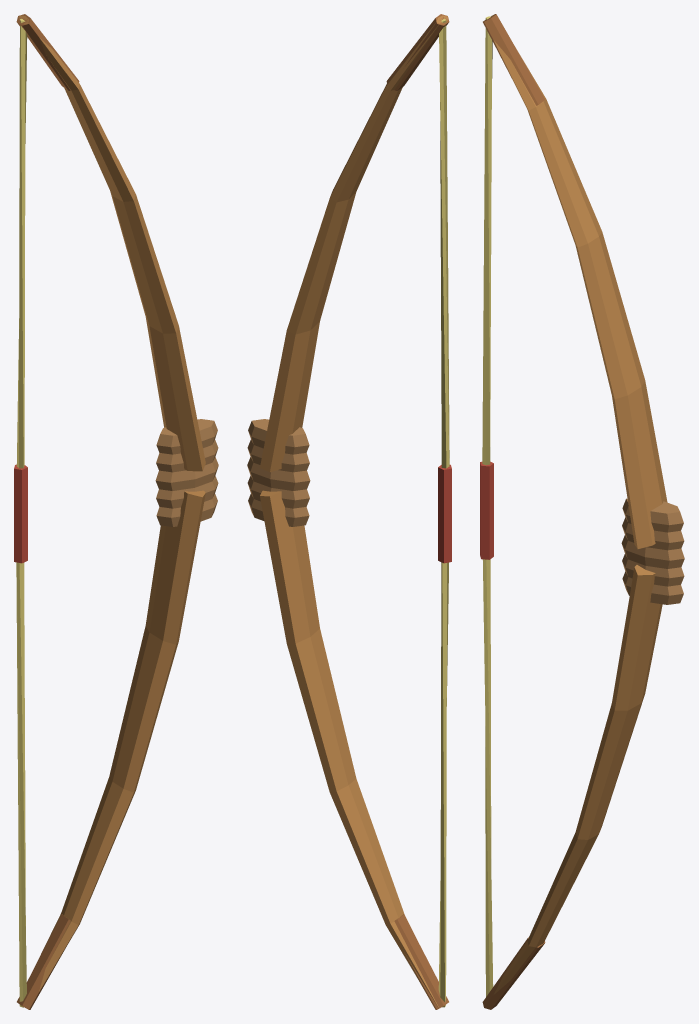
File: longbow_world.glb
The picture shows the model from 3 angles, left to right: view 1: azimuth 30°, elevation 25°; view 2: azimuth 150°, elevation 25°; view 3: azimuth 330°, elevation 25°; orthographic projection.
Visible parts, largest first — view 1: Longbow_Limb_Lower, Longbow_Limb_Upper, Longbow_String, Longbow_String_Serving, Longbow_Nock_Lower, Longbow_Grip_Wrap_3, Longbow_Grip_Wrap_5, Longbow_Nock_Upper, Longbow_Grip_Wrap_2, Longbow_Grip_Wrap_4, Longbow_Grip_Wrap_1; view 2: Longbow_Limb_Lower, Longbow_Limb_Upper, Longbow_String, Longbow_String_Serving, Longbow_Nock_Lower, Longbow_Grip_Wrap_3, Longbow_Nock_Upper, Longbow_Grip_Wrap_5, Longbow_Grip_Wrap_2, Longbow_Grip_Wrap_4, Longbow_Grip_Wrap_1; view 3: Longbow_Limb_Upper, Longbow_Limb_Lower, Longbow_String, Longbow_Nock_Upper, Longbow_String_Serving, Longbow_Grip_Wrap_3, Longbow_Grip_Wrap_5, Longbow_Grip_Wrap_2, Longbow_Nock_Lower, Longbow_Grip_Wrap_1, Longbow_Grip_Wrap_4.
Part boxes in pixels (<box>): Longbow_Limb_Lower: <box>39,490,205,991</box>; Longbow_Limb_Upper: <box>18,15,205,471</box>; Longbow_String: <box>16,19,27,1007</box>; Longbow_String_Serving: <box>14,464,27,563</box>; Longbow_Nock_Lower: <box>17,914,70,1009</box>; Longbow_Grip_Wrap_3: <box>155,457,218,490</box>; Longbow_Grip_Wrap_5: <box>156,419,217,454</box>; Longbow_Nock_Upper: <box>16,14,79,90</box>; Longbow_Grip_Wrap_2: <box>156,476,218,508</box>; Longbow_Grip_Wrap_4: <box>156,440,218,472</box>; Longbow_Grip_Wrap_1: <box>156,494,217,526</box>; Longbow_Limb_Lower: <box>260,490,439,1009</box>; Longbow_Limb_Upper: <box>260,15,447,472</box>; Longbow_String: <box>438,18,449,1007</box>; Longbow_String_Serving: <box>438,464,451,563</box>; Longbow_Nock_Lower: <box>394,914,448,1009</box>; Longbow_Grip_Wrap_3: <box>247,457,310,490</box>; Longbow_Nock_Upper: <box>386,14,449,90</box>; Longbow_Grip_Wrap_5: <box>248,419,309,454</box>; Longbow_Grip_Wrap_2: <box>247,476,309,508</box>; Longbow_Grip_Wrap_4: <box>247,440,309,472</box>; Longbow_Grip_Wrap_1: <box>248,494,309,526</box>; Longbow_Limb_Upper: <box>484,14,667,548</box>; Longbow_Limb_Lower: <box>493,565,662,994</box>; Longbow_String: <box>482,16,493,996</box>; Longbow_Nock_Upper: <box>483,14,545,105</box>; Longbow_String_Serving: <box>480,461,493,559</box>; Longbow_Grip_Wrap_3: <box>621,535,684,568</box>; Longbow_Grip_Wrap_5: <box>622,498,683,532</box>; Longbow_Grip_Wrap_2: <box>622,554,684,586</box>; Longbow_Nock_Lower: <box>482,937,545,1009</box>; Longbow_Grip_Wrap_1: <box>622,571,683,604</box>; Longbow_Grip_Wrap_4: <box>622,517,684,550</box>.
Bounding box in the file's own units: 0.4128 × 1.91 × 0.1027.
